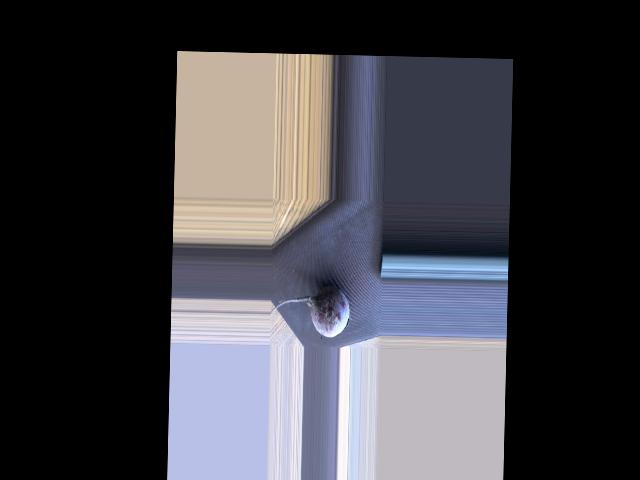beet: (270, 284, 350, 337)
